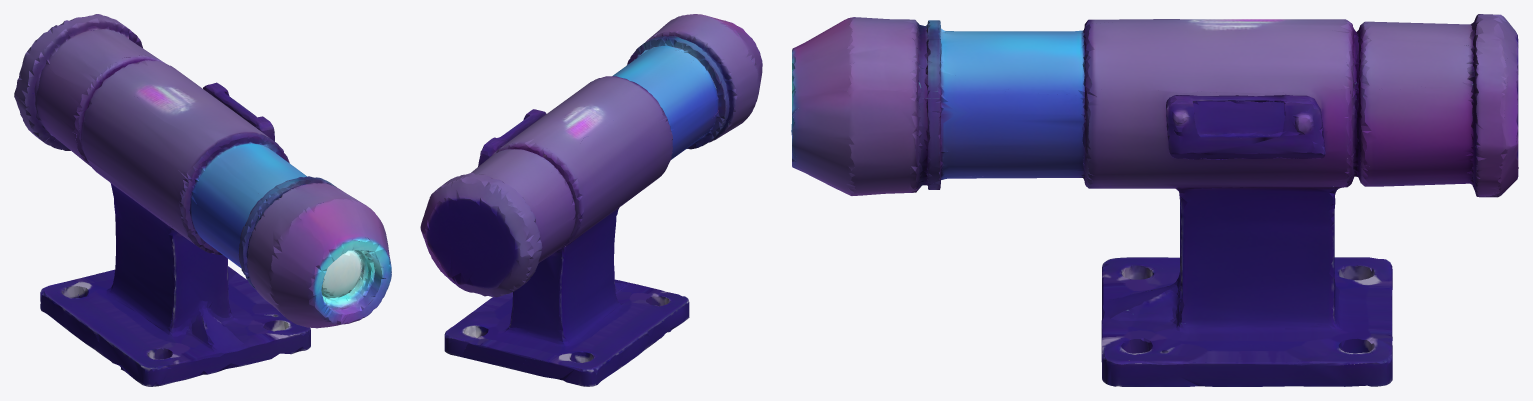
Rendered from f1_rocket.glb.
3 views of the same model, side by side, from view 1: azimuth 30°, elevation 25°; view 2: azimuth 150°, elevation 25°; view 3: azimuth 270°, elevation 25° (orthographic). The views are drawn at different scales.
Visible parts, largest first — view 1: Rocket_F1_x; view 2: Rocket_F1_x; view 3: Rocket_F1_x.
Part boxes in pixels (x1,y1,x2,y2): Rocket_F1_x: (14, 14, 391, 386); Rocket_F1_x: (420, 14, 762, 386); Rocket_F1_x: (791, 14, 1518, 386).
Size of the model in its own units: 0.2079 by 0.2829 by 0.6007.
Materials: 1 (1 with a texture image).
